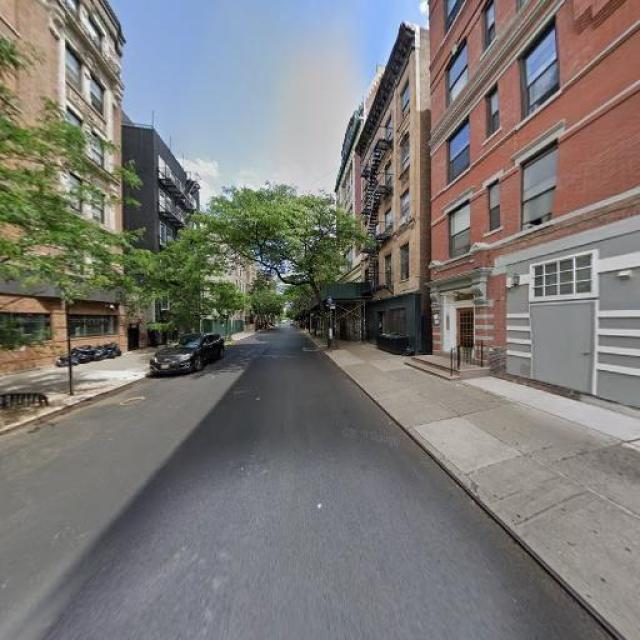Building: (434, 1, 640, 409), (1, 1, 119, 369), (363, 22, 419, 353)
